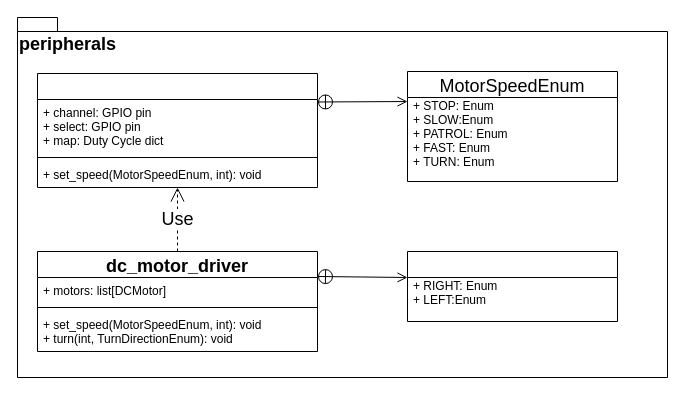
Image size: 685x395. Some labels were removed from this diagram. The shapes that lost their labels are listed below. From the top down, each one's box as (x1, y1, x2, y2) in pixels, then its label:
(36, 72, 318, 188): DCMotor
(406, 250, 618, 322): TurnDirectionEnum
